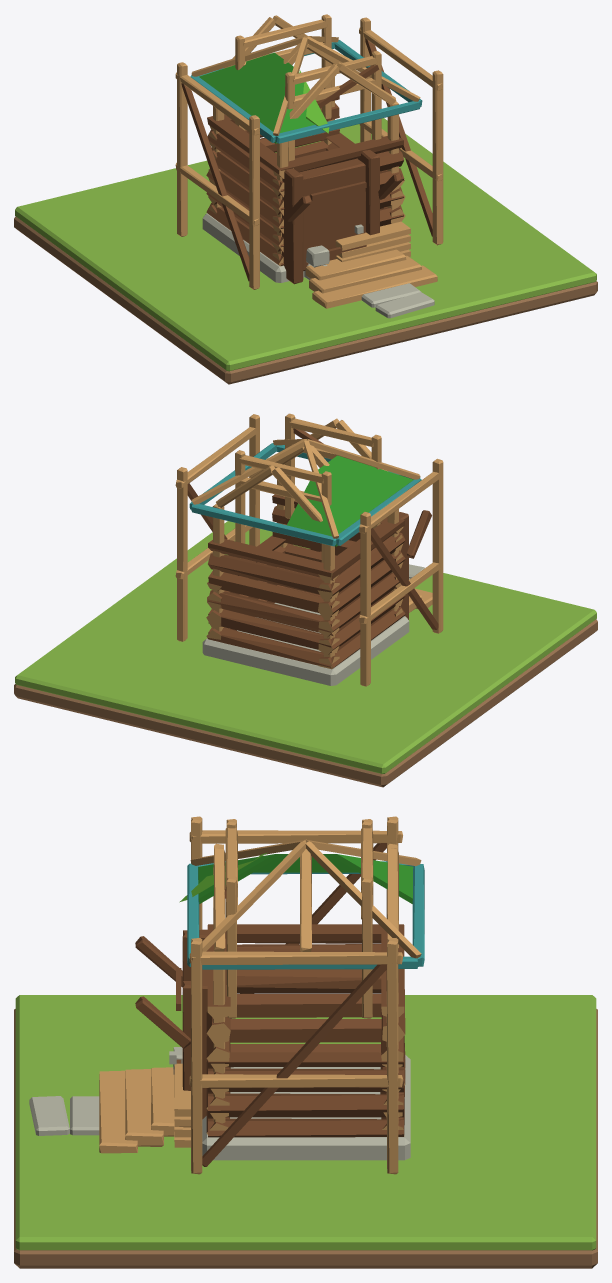
File: town_hall_l02_construction_LOD1.glb
3 views of the same model, one above another, from view 1: azimuth 30°, elevation 25°; view 2: azimuth 150°, elevation 25°; view 3: azimuth 270°, elevation 25° (orthographic). The views are drawn at different scales.
Visible parts, largest first — view 1: town_hall_l02_construction_foundation.001, town_hall_l02_construction_grass_tile.001, town_hall_l02_construction_earth_tile.001, town_hall_l02_construction_path_stone.005, town_hall_l02_construction_path_stone.004; view 2: town_hall_l02_construction_grass_tile.001, town_hall_l02_construction_foundation.001, town_hall_l02_construction_earth_tile.001; view 3: town_hall_l02_construction_grass_tile.001, town_hall_l02_construction_foundation.001, town_hall_l02_construction_earth_tile.001, town_hall_l02_construction_path_stone.005, town_hall_l02_construction_path_stone.004.
Part boxes in pixels (x1=…): town_hall_l02_construction_foundation.001: x1=175, y1=14, x2=443, y2=308; town_hall_l02_construction_grass_tile.001: x1=15, y1=118, x2=596, y2=371; town_hall_l02_construction_earth_tile.001: x1=14, y1=216, x2=597, y2=384; town_hall_l02_construction_path_stone.005: x1=375, y1=292, x2=434, y2=318; town_hall_l02_construction_path_stone.004: x1=361, y1=283, x2=420, y2=307; town_hall_l02_construction_grass_tile.001: x1=15, y1=521, x2=596, y2=773; town_hall_l02_construction_foundation.001: x1=175, y1=413, x2=443, y2=686; town_hall_l02_construction_earth_tile.001: x1=14, y1=619, x2=597, y2=787; town_hall_l02_construction_grass_tile.001: x1=15, y1=995, x2=596, y2=1250; town_hall_l02_construction_foundation.001: x1=99, y1=816, x2=424, y2=1174; town_hall_l02_construction_earth_tile.001: x1=14, y1=1009, x2=597, y2=1268; town_hall_l02_construction_path_stone.005: x1=29, y1=1096, x2=69, y2=1135; town_hall_l02_construction_path_stone.004: x1=70, y1=1096, x2=99, y2=1135.
Bounding box in the file's own units: 3.6 × 2.08 × 3.6.
